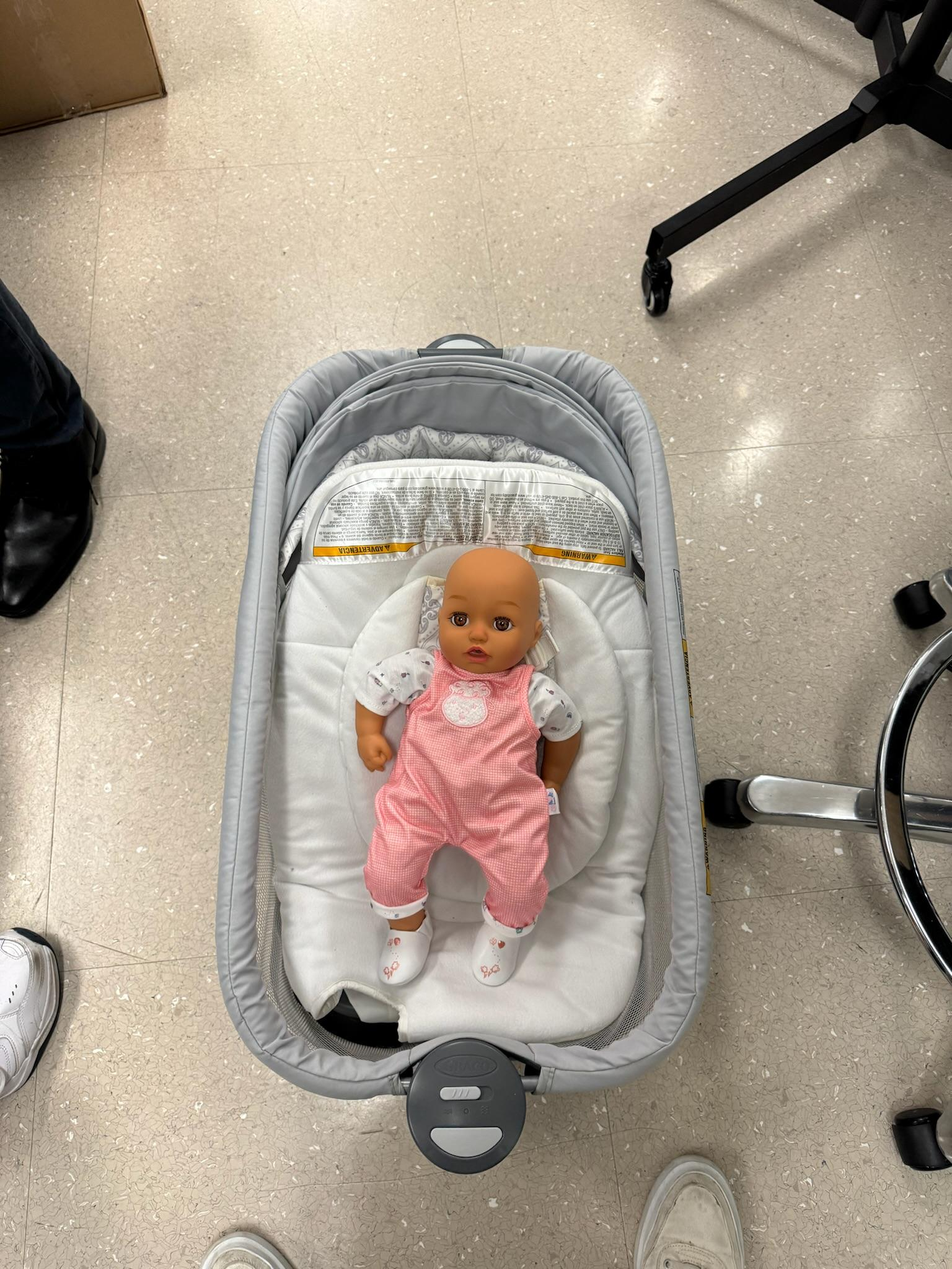baby: (345, 538, 580, 992)
